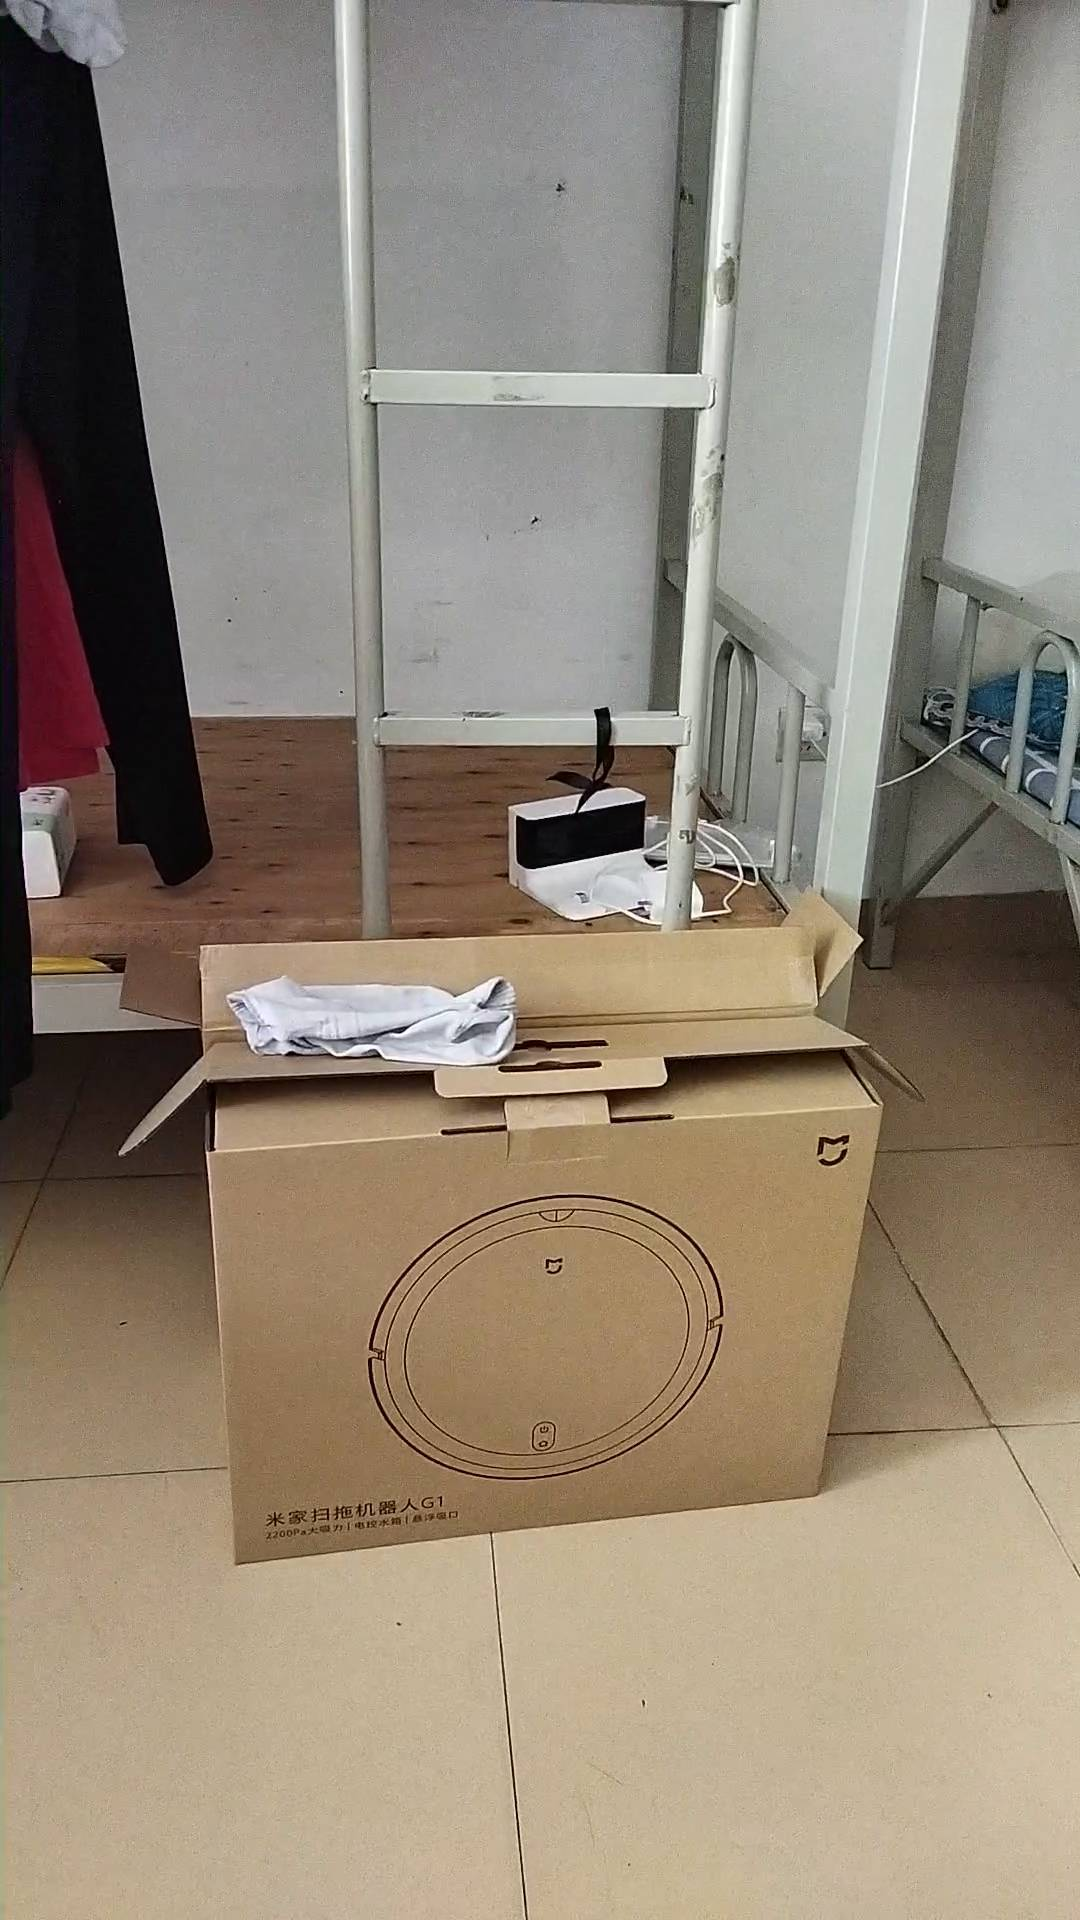recharge seat: (506, 785, 655, 922)
